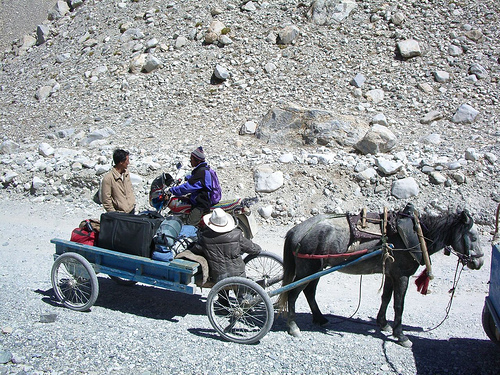horse: (279, 202, 484, 346)
